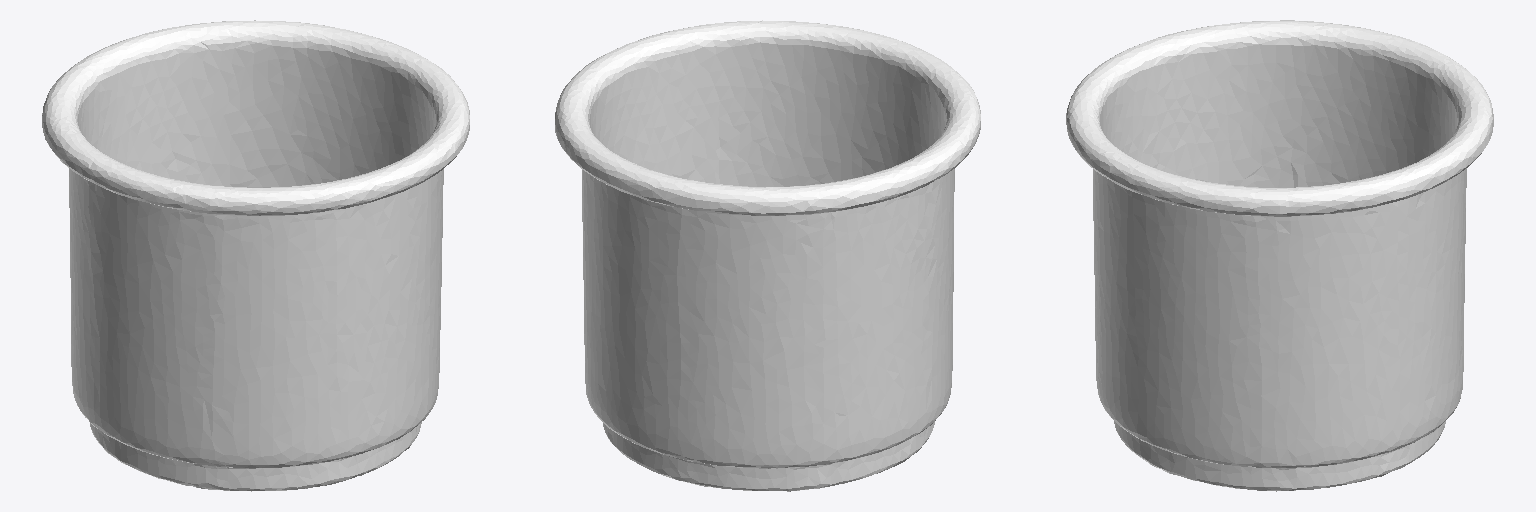
URDF robot description (054_softball):
<robot name="054_softball">
	<link name="_name">
		<visual>
			<origin xyz="0.1964979410061078 -0.10882535862384665 -0.46817133983924725" rpy="0 0 0" />
			<geometry>
				<mesh filename="054_softball/google_16k/textured.obj" scale="10 10 10" />
			</geometry>
			<material name="texture">
				<color rgba="1.0 1.0 1.0 1.0" />
			</material>
		</visual>
		<collision>
			<geometry>
				<mesh filename="054_softball/google_16k/textured_vhacd.obj" scale="10 10 10" />
			</geometry>
		<origin xyz="0.1964979410061078 -0.10882535862384665 -0.46817133983924725" rpy="0 0 0" /></collision>
		<inertial>
			<mass value="1.0" />
			<inertia ixx="1.0" ixy="0.0" ixz="0.0" iyy="1.0" iyz="0.0" izz="1.0" />
		</inertial>
	</link>
</robot>

--- Facts derived from the render (not from the file) ---
The picture shows the robot from 3 angles, left to right: view 1: azimuth 30°, elevation 25°; view 2: azimuth 150°, elevation 25°; view 3: azimuth 270°, elevation 25°; orthographic projection.
Robot: 054_softball — 1 links, 0 joints (none); root link _name; default pose: all joints at 0.
Links seen in each view (by area): view 1: _name; view 2: _name; view 3: _name.
Link boxes in pixels (x1,y1,x2,y2): _name: [42, 20, 469, 491]; _name: [555, 20, 980, 491]; _name: [1066, 20, 1493, 491].
Bounding box of the posed robot: 0.915 × 0.9162 × 0.7506 m (x, y, z).
Meshes: 1 distinct files referenced, 1 mesh visuals loaded (1 OBJ).